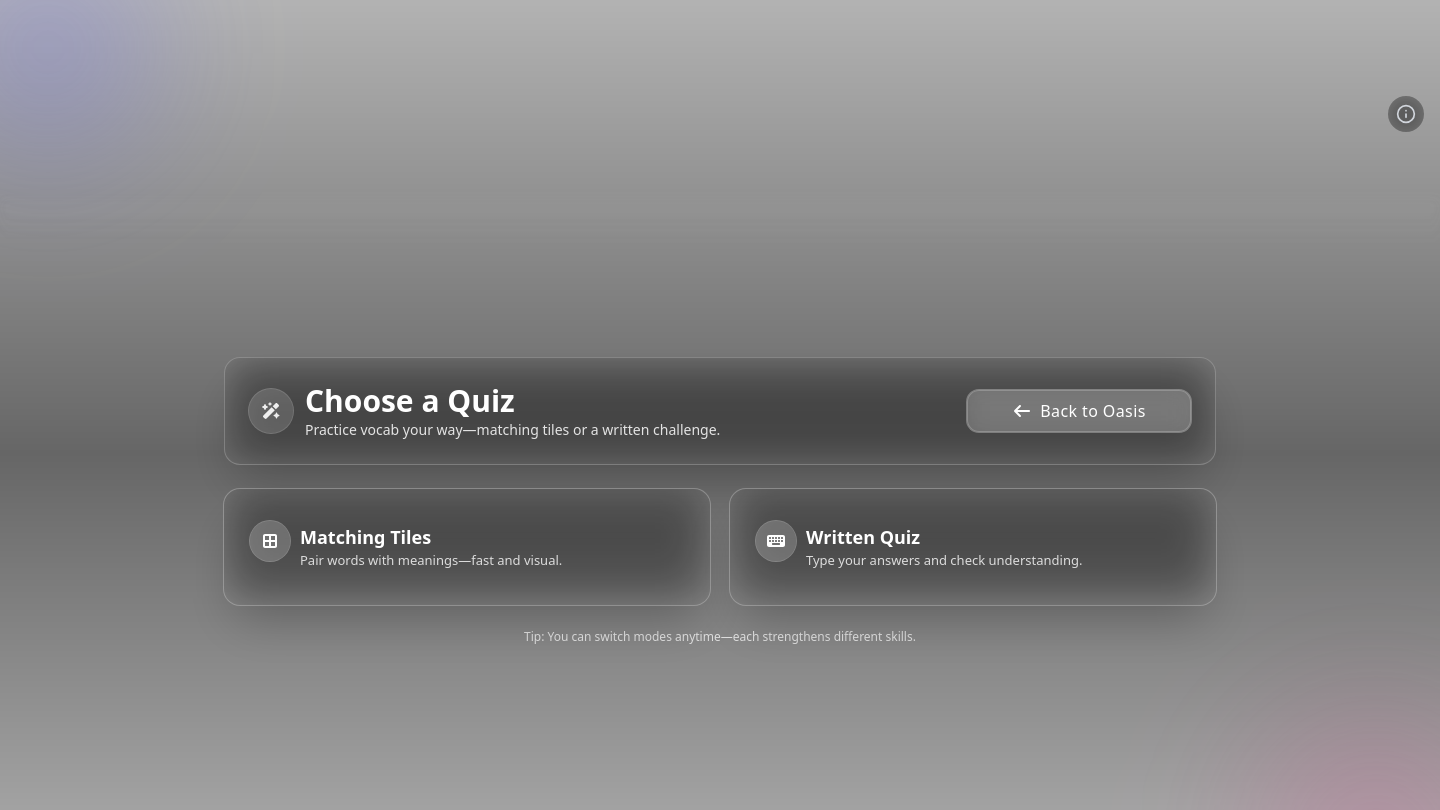
Test case: Quiz Page › hides footer tip when a quiz is selected
What coordinates should you click on to do the following:
click the button with aria-label "start matching tiles"
I would click on:
 (270, 541)
Its box is [224,489,710,605].
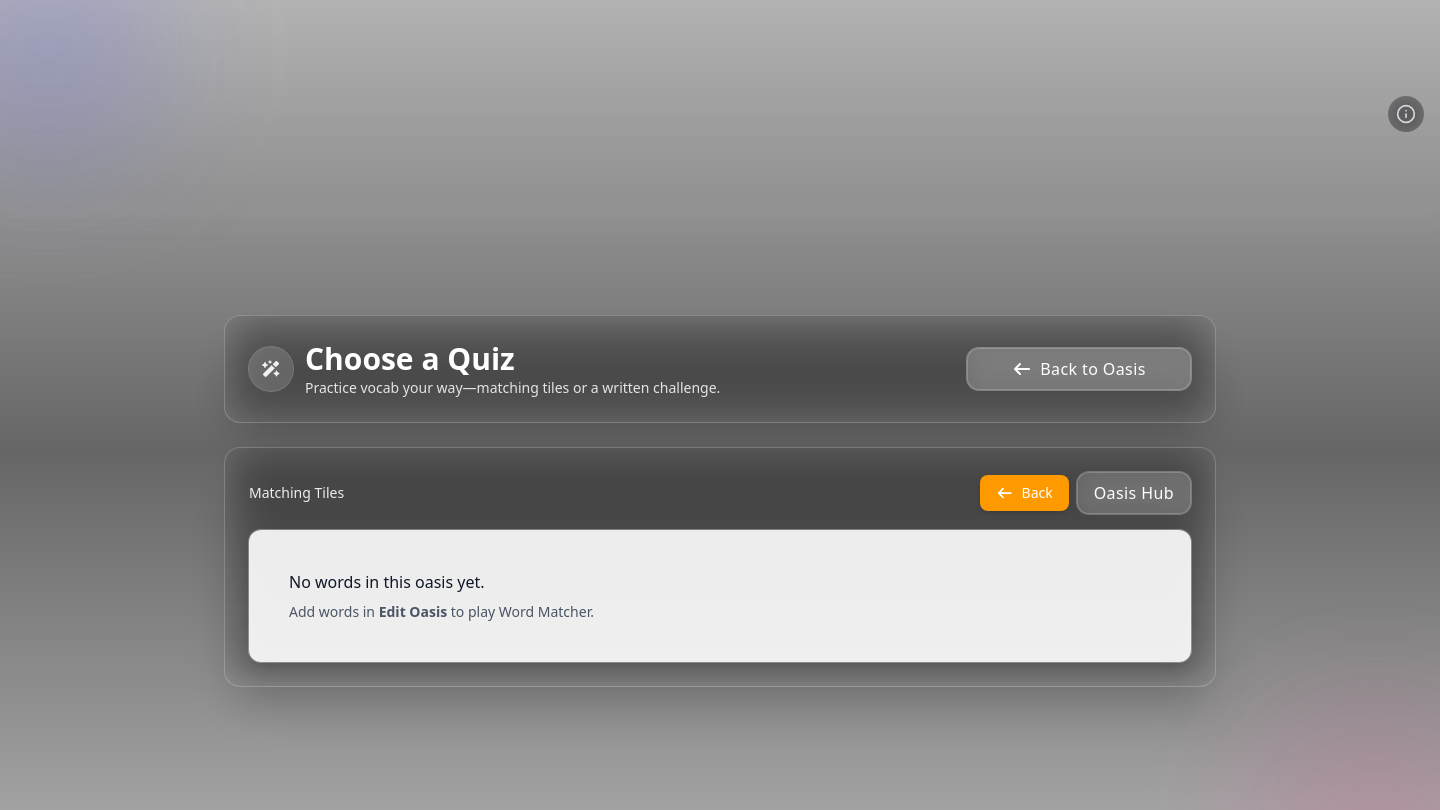
Expected: the text "Tip: You can switch modes anytime" is gone
